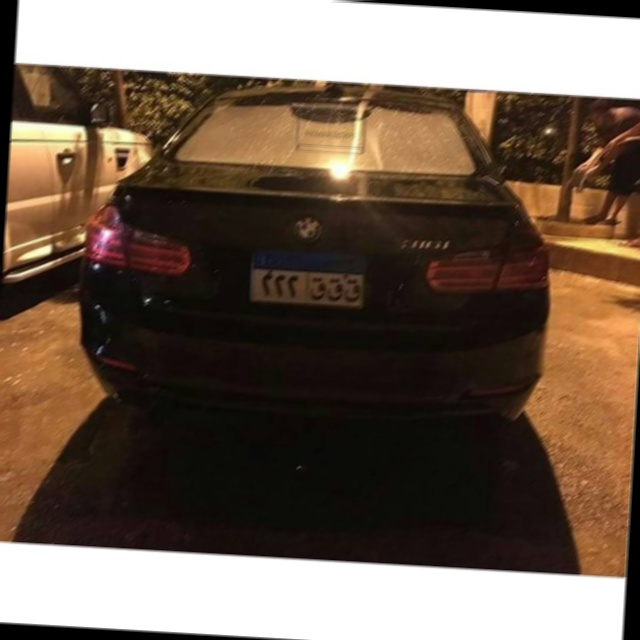License Plate: (245, 241, 370, 311)
